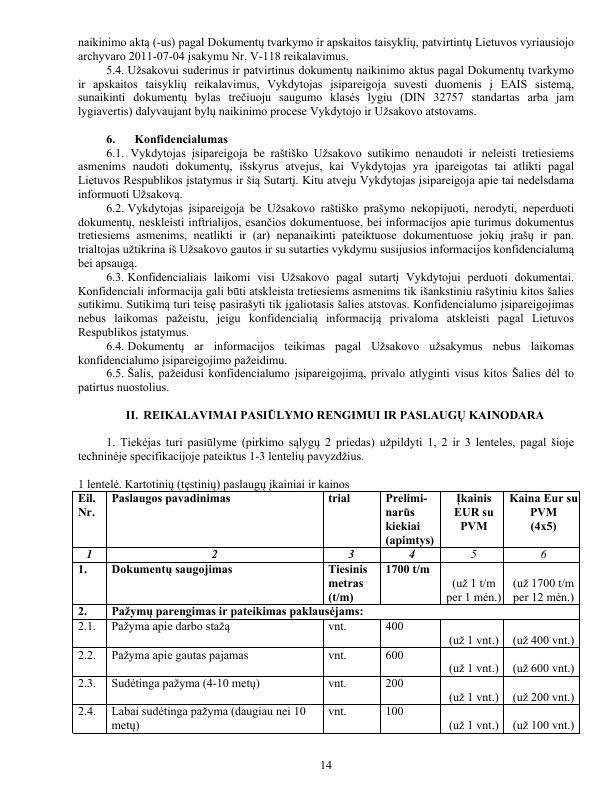table: (69, 489, 581, 737)
text: (73, 132, 578, 397), (76, 35, 578, 119), (77, 436, 575, 464), (123, 406, 546, 421), (78, 477, 351, 491)
